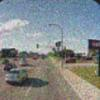cars: (5, 67, 29, 84)
